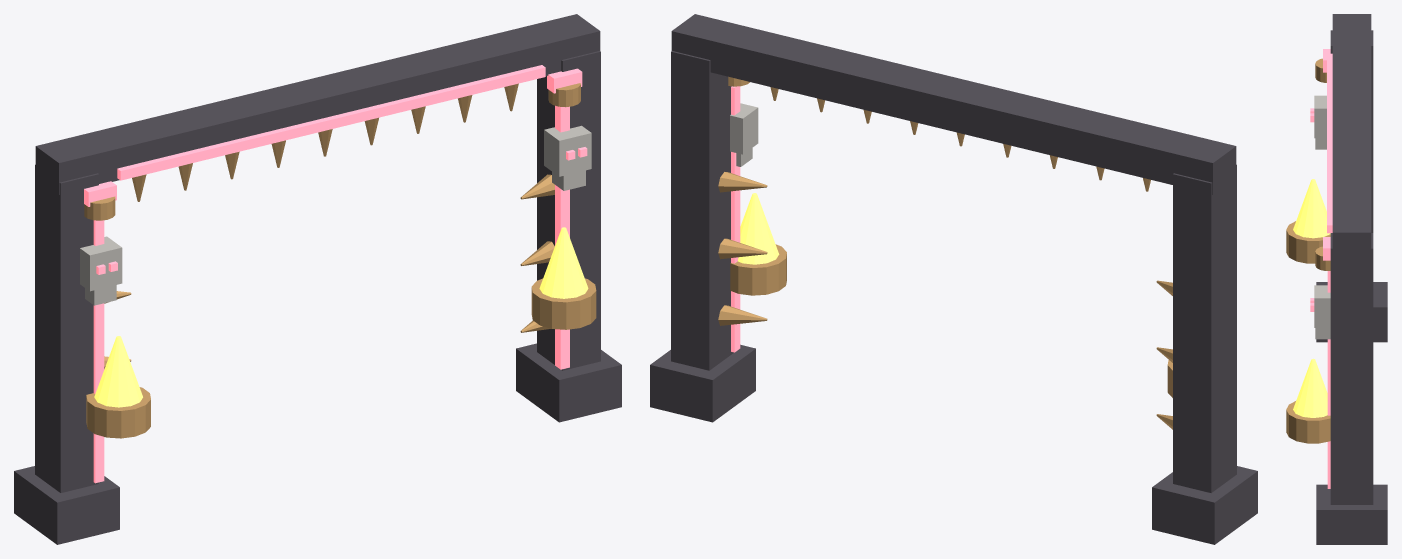
The model's file is node_elite_arena.glb.
The picture shows the model from 3 angles, left to right: view 1: azimuth 30°, elevation 25°; view 2: azimuth 150°, elevation 25°; view 3: azimuth 270°, elevation 25°; orthographic projection. The views are drawn at different scales.
Parts seen in each view (by area): view 1: EliteArchSpan, TotemPillar_L, TotemPillar_R, EliteArchCrimsonBar, TotemBase_R, TotemBase_L, BrazierBowl_R, BrazierBowl_L, FlameOuter_L, FlameOuter_R, SkullCrest_R, CrimsonVein_L (+2 smaller); view 2: EliteArchSpan, TotemPillar_L, TotemPillar_R, TotemBase_L, TotemBase_R, BrazierBowl_R, FlameOuter_R, CrimsonVein_R, SkullCrest_R; view 3: TotemPillar_R, EliteArchSpan, TotemBase_R, FlameOuter_R, FlameOuter_L, BrazierBowl_R, EliteArchCrimsonBar, TotemBase_L, BrazierBowl_L, SkullCrest_R, TotemPillar_L, CrimsonVein_R (+5 smaller).
Part boxes in pixels (bbox=[...]): EliteArchSpan: bbox=[35, 14, 600, 194]; TotemPillar_L: bbox=[35, 164, 98, 492]; TotemPillar_R: bbox=[537, 51, 600, 370]; EliteArchCrimsonBar: bbox=[117, 65, 545, 180]; TotemBase_R: bbox=[516, 343, 621, 422]; TotemBase_L: bbox=[14, 466, 119, 544]; BrazierBowl_R: bbox=[531, 278, 596, 329]; BrazierBowl_L: bbox=[86, 387, 150, 438]; FlameOuter_L: bbox=[94, 336, 142, 407]; FlameOuter_R: bbox=[539, 227, 588, 298]; SkullCrest_R: bbox=[544, 125, 591, 176]; CrimsonVein_L: bbox=[93, 220, 104, 483]; EliteArchSpan: bbox=[671, 14, 1236, 194]; TotemPillar_L: bbox=[1173, 164, 1236, 492]; TotemPillar_R: bbox=[671, 51, 733, 370]; TotemBase_L: bbox=[1152, 466, 1257, 544]; TotemBase_R: bbox=[650, 344, 755, 422]; BrazierBowl_R: bbox=[730, 244, 786, 295]; FlameOuter_R: bbox=[738, 193, 779, 264]; CrimsonVein_R: bbox=[731, 86, 740, 352]; SkullCrest_R: bbox=[730, 103, 758, 154]; TotemPillar_R: bbox=[1330, 233, 1373, 504]; EliteArchSpan: bbox=[1332, 14, 1371, 258]; TotemBase_R: bbox=[1316, 484, 1387, 544]; FlameOuter_R: bbox=[1293, 358, 1327, 417]; FlameOuter_L: bbox=[1293, 179, 1330, 238]; BrazierBowl_R: bbox=[1286, 401, 1330, 443]; EliteArchCrimsonBar: bbox=[1327, 53, 1332, 233]; TotemBase_L: bbox=[1316, 282, 1387, 342]; BrazierBowl_L: bbox=[1286, 221, 1330, 263]; SkullCrest_R: bbox=[1314, 285, 1330, 327]; TotemPillar_L: bbox=[1330, 30, 1373, 232]; CrimsonVein_R: bbox=[1327, 271, 1330, 488].
Bounding box in the file's own units: 5.58 × 3.51 × 1.05.
